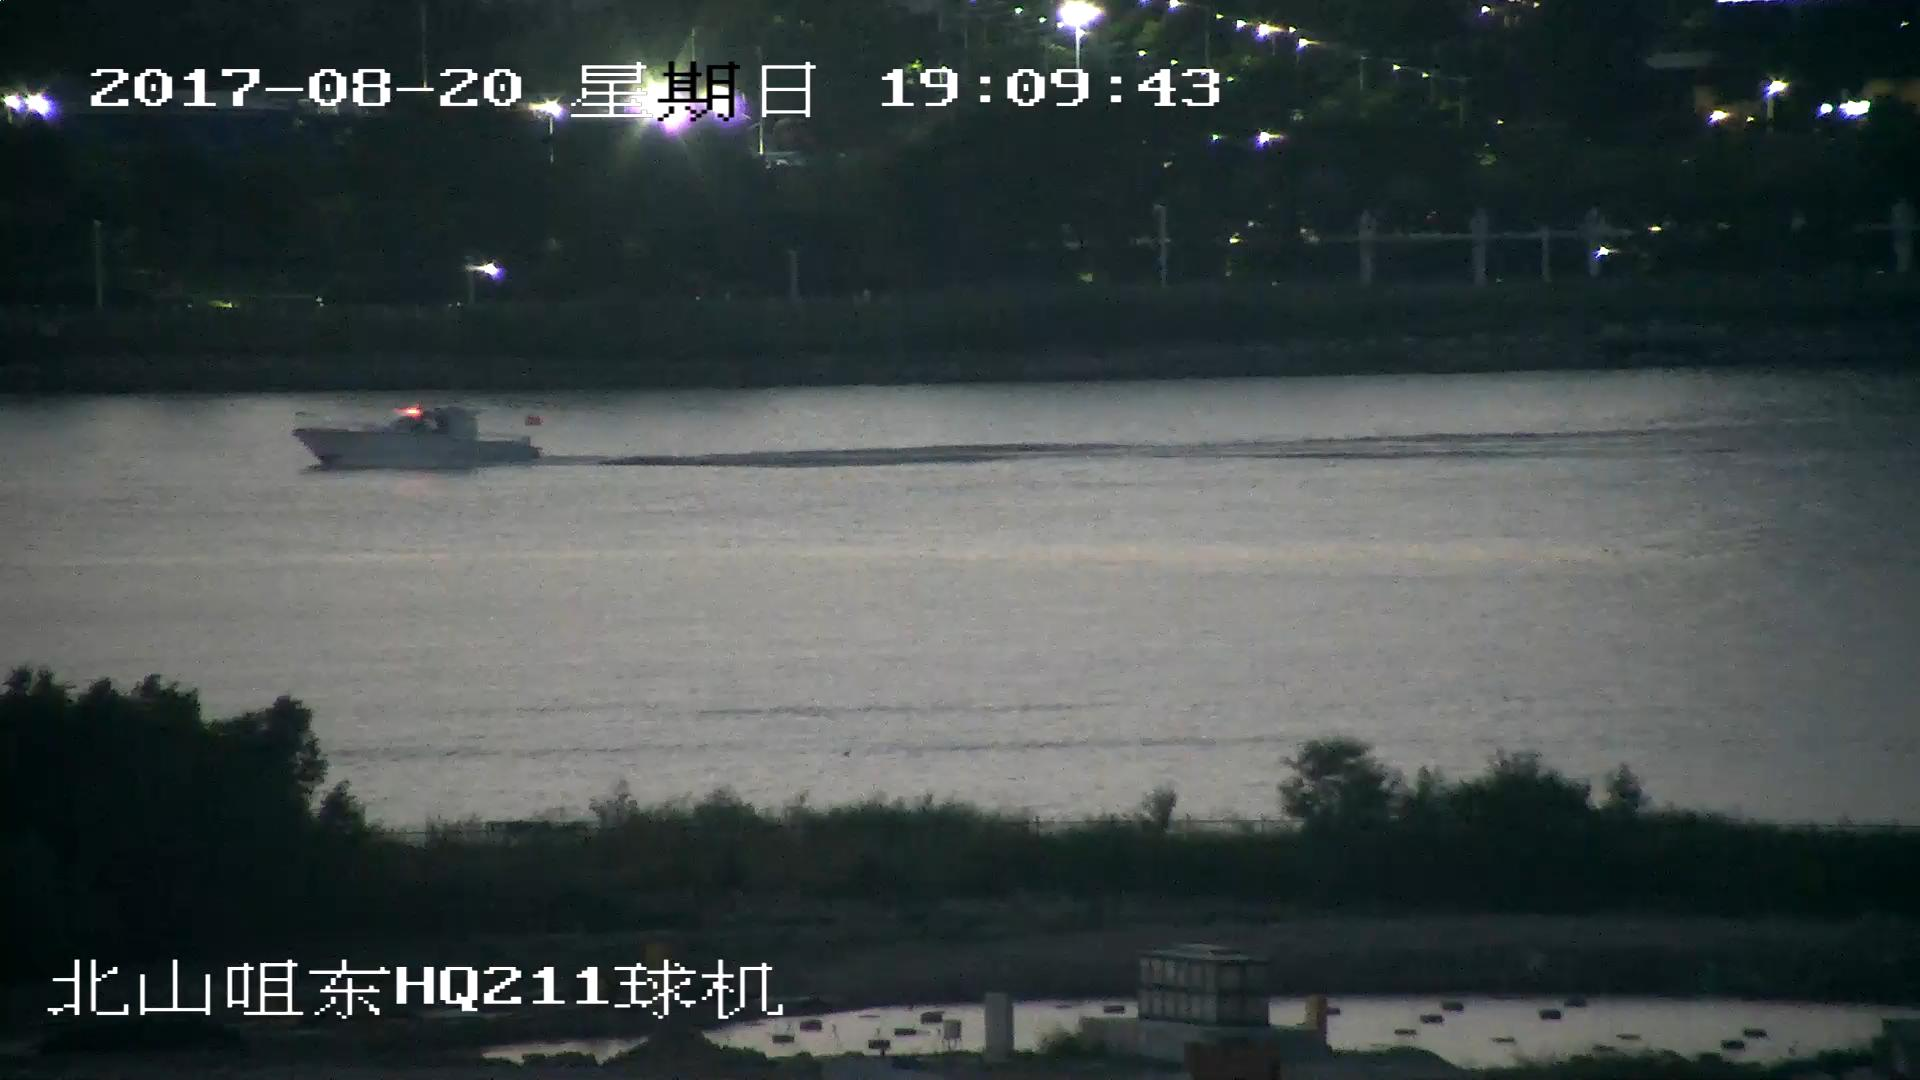passenger ship: (294, 399, 540, 474)
